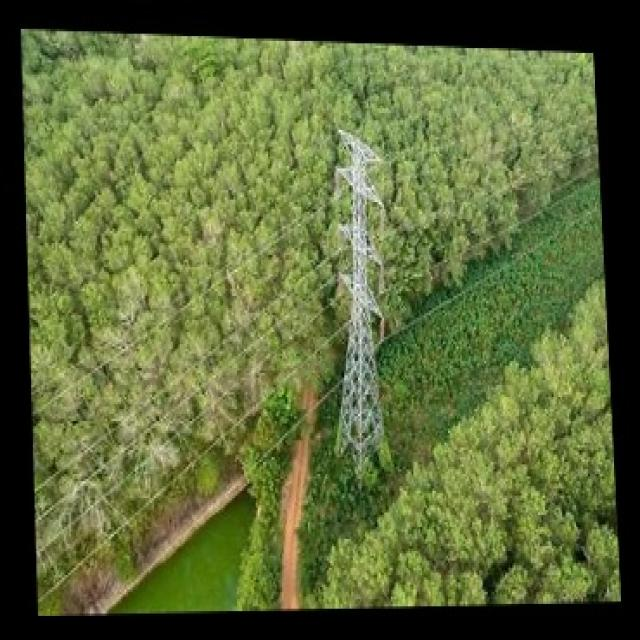utility poles: (322, 133, 405, 489)
